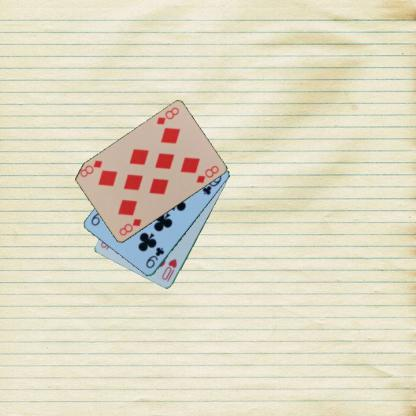10h: (159, 257, 178, 283)
8d: (116, 216, 143, 238), (154, 105, 180, 126)
9c: (144, 244, 166, 270)
